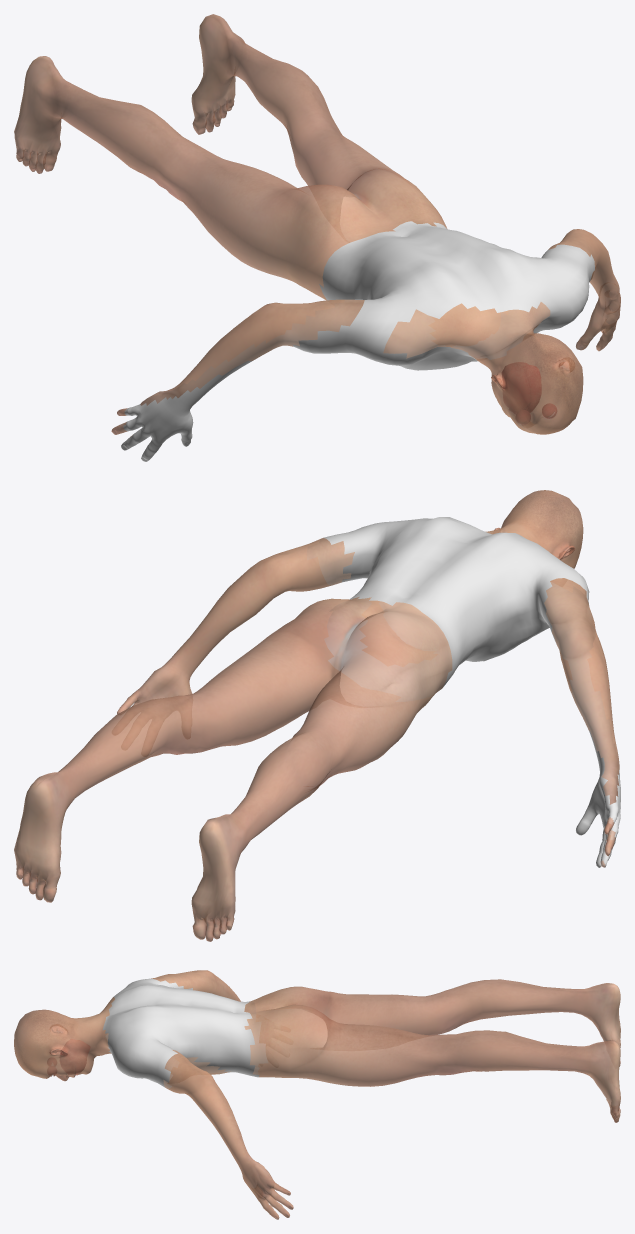
The model's file is gaelic_player_base.glb.
3 views of the same model, one above another, from view 1: azimuth 30°, elevation 25°; view 2: azimuth 150°, elevation 25°; view 3: azimuth 270°, elevation 25° (orthographic). The views are drawn at different scales.
Visible parts, largest first — view 1: gaelic_footballerMesh.001; view 2: gaelic_footballerMesh.001; view 3: gaelic_footballerMesh.001.
Boxes of the visible parts, x1,y1,x2,y2 form: gaelic_footballerMesh.001: (14,14,620,461); gaelic_footballerMesh.001: (14,490,620,941); gaelic_footballerMesh.001: (14,970,620,1219).
Size of the model in its own units: 11.31 by 4.67 by 17.43.
Materials: 2 (1 with a texture image).
